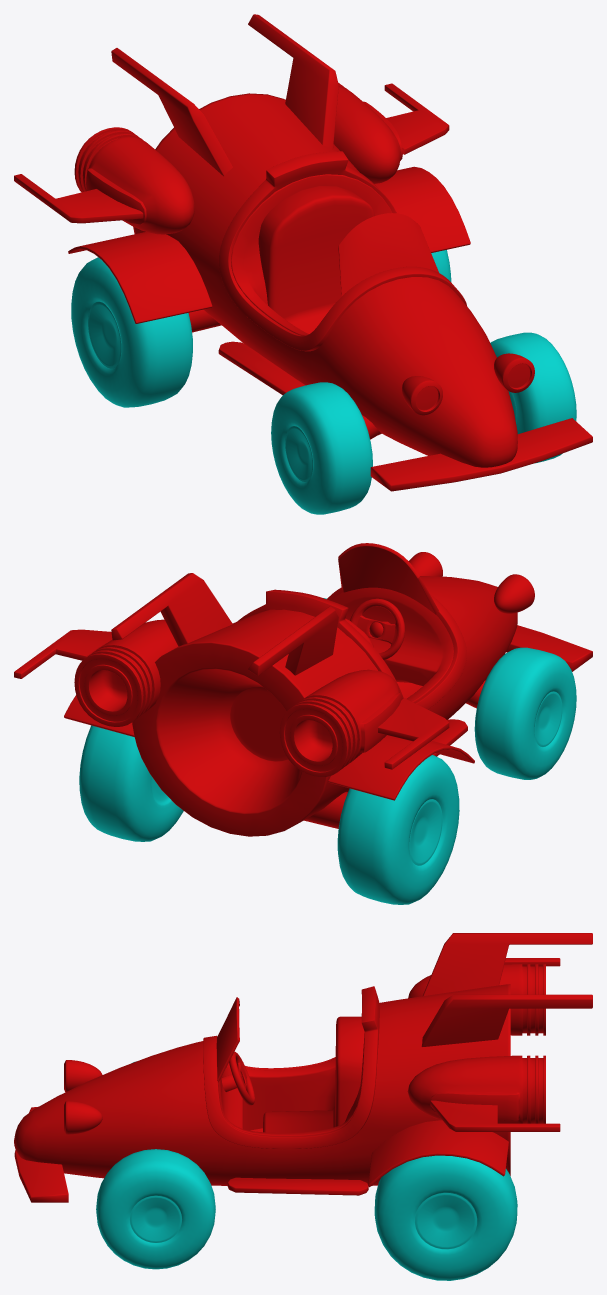
The model's file is kart_02.obj.
3 views of the same model, one above another, from view 1: azimuth 30°, elevation 25°; view 2: azimuth 150°, elevation 25°; view 3: azimuth 270°, elevation 25° (orthographic). The views are drawn at different scales.
Parts seen in each view (by area): view 1: Plane.003, Cylinder.002, Cylinder.001, Cylinder; view 2: Plane.003, Cylinder.002, Cylinder.001, Cylinder.004; view 3: Plane.003, Cylinder.004, Cylinder.
Part boxes in pixels (left/top/right/bottom): Plane.003: left=14, top=14, right=592, bottom=491; Cylinder.002: left=71, top=257, right=192, bottom=407; Cylinder.001: left=271, top=382, right=372, bottom=514; Cylinder: left=490, top=332, right=576, bottom=463; Plane.003: left=14, top=543, right=592, bottom=836; Cylinder.002: left=337, top=755, right=459, bottom=904; Cylinder.001: left=474, top=647, right=576, bottom=779; Cylinder.004: left=79, top=725, right=183, bottom=841; Plane.003: left=14, top=933, right=592, bottom=1202; Cylinder.004: left=374, top=1155, right=517, bottom=1280; Cylinder: left=96, top=1149, right=215, bottom=1269.
Bounding box in the file's own units: 161 × 113 × 233.
